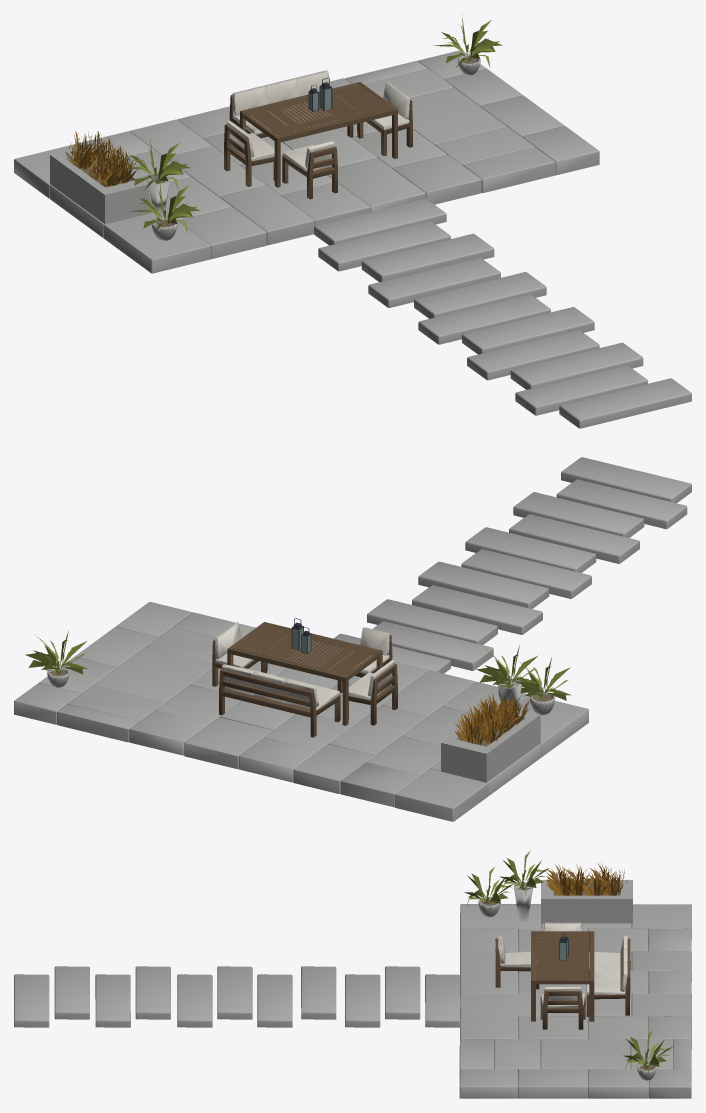
File: patio-mini.obj
The picture shows the model from 3 angles, top to bottom: view 1: azimuth 30°, elevation 25°; view 2: azimuth 150°, elevation 25°; view 3: azimuth 270°, elevation 25°; orthographic projection. The views are drawn at different scales.
Parts seen in each view (by area): view 1: Mesh740 Planter G_3_Deck_Decorative_fbx1 Model, Mesh804 mesh_916_1 PAthway_C G_3_Deck_Decorative_fbx1 Model, Mesh809 mesh_916_1 PAthway_C G_3_Deck_Decorative_fbx1 Model, Mesh781 mesh_916_1 PAthway_C G_3_Deck_Decorative_fbx1 Model, Mesh818 mesh_916_1 PAthway_C G_3_Deck_Decorative_fbx1 Model, Mesh813 mesh_916_1 PAthway_C G_3_Deck_Decorative_fbx1 Model, Mesh811 mesh_916_1 PAthway_C G_3_Deck_Decorative_fbx1 Model, Mesh815 mesh_916_1 PAthway_C G_3_Deck_Decorative_fbx1 Model, Mesh816 mesh_916_1 PAthway_C G_3_Deck_Decorative_fbx1 Model, Mesh817 mesh_916_1 PAthway_C G_3_Deck_Decorative_fbx1 Model, Mesh778 mesh_916_1 PAthway_C G_3_Deck_Decorative_fbx1 Model, Mesh810 mesh_916_1 PAthway_C G_3_Deck_Decorative_fbx1 Model (+29 smaller); view 2: Mesh740 Planter G_3_Deck_Decorative_fbx1 Model, Mesh781 mesh_916_1 PAthway_C G_3_Deck_Decorative_fbx1 Model, Mesh805 mesh_916_1 PAthway_C G_3_Deck_Decorative_fbx1 Model, Mesh818 mesh_916_1 PAthway_C G_3_Deck_Decorative_fbx1 Model, Mesh812 mesh_916_1 PAthway_C G_3_Deck_Decorative_fbx1 Model, Mesh816 mesh_916_1 PAthway_C G_3_Deck_Decorative_fbx1 Model, Mesh815 mesh_916_1 PAthway_C G_3_Deck_Decorative_fbx1 Model, Mesh817 mesh_916_1 PAthway_C G_3_Deck_Decorative_fbx1 Model, Mesh809 mesh_916_1 PAthway_C G_3_Deck_Decorative_fbx1 Model, Mesh810 mesh_916_1 PAthway_C G_3_Deck_Decorative_fbx1 Model, Mesh811 mesh_916_1 PAthway_C G_3_Deck_Decorative_fbx1 Model, Mesh813 mesh_916_1 PAthway_C G_3_Deck_Decorative_fbx1 Model (+35 smaller); view 3: Mesh740 Planter G_3_Deck_Decorative_fbx1 Model, Mesh781 mesh_916_1 PAthway_C G_3_Deck_Decorative_fbx1 Model, Mesh801 mesh_916_1 PAthway_C G_3_Deck_Decorative_fbx1 Model, Mesh818 mesh_916_1 PAthway_C G_3_Deck_Decorative_fbx1 Model, Mesh809 mesh_916_1 PAthway_C G_3_Deck_Decorative_fbx1 Model, Mesh810 mesh_916_1 PAthway_C G_3_Deck_Decorative_fbx1 Model, Mesh812 mesh_916_1 PAthway_C G_3_Deck_Decorative_fbx1 Model, Mesh815 mesh_916_1 PAthway_C G_3_Deck_Decorative_fbx1 Model, Mesh816 mesh_916_1 PAthway_C G_3_Deck_Decorative_fbx1 Model, Mesh778 mesh_916_1 PAthway_C G_3_Deck_Decorative_fbx1 Model, Mesh811 mesh_916_1 PAthway_C G_3_Deck_Decorative_fbx1 Model, Mesh813 mesh_916_1 PAthway_C G_3_Deck_Decorative_fbx1 Model (+31 smaller).
Boxes of the visible parts, x1,y1,x2,y2 form: Mesh740 Planter G_3_Deck_Decorative_fbx1 Model: (50,143,151,223); Mesh804 mesh_916_1 PAthway_C G_3_Deck_Decorative_fbx1 Model: (103,212,211,273); Mesh809 mesh_916_1 PAthway_C G_3_Deck_Decorative_fbx1 Model: (559,378,691,428); Mesh781 mesh_916_1 PAthway_C G_3_Deck_Decorative_fbx1 Model: (410,87,506,144); Mesh818 mesh_916_1 PAthway_C G_3_Deck_Decorative_fbx1 Model: (368,257,500,307); Mesh813 mesh_916_1 PAthway_C G_3_Deck_Decorative_fbx1 Model: (361,233,494,282); Mesh811 mesh_916_1 PAthway_C G_3_Deck_Decorative_fbx1 Model: (461,307,594,354); Mesh815 mesh_916_1 PAthway_C G_3_Deck_Decorative_fbx1 Model: (515,365,647,415); Mesh816 mesh_916_1 PAthway_C G_3_Deck_Decorative_fbx1 Model: (467,330,599,380); Mesh817 mesh_916_1 PAthway_C G_3_Deck_Decorative_fbx1 Model: (418,294,550,344); Mesh778 mesh_916_1 PAthway_C G_3_Deck_Decorative_fbx1 Model: (318,221,450,271); Mesh810 mesh_916_1 PAthway_C G_3_Deck_Decorative_fbx1 Model: (510,342,643,389); Mesh740 Planter G_3_Deck_Decorative_fbx1 Model: (441,704,540,782); Mesh781 mesh_916_1 PAthway_C G_3_Deck_Decorative_fbx1 Model: (93,647,212,703); Mesh805 mesh_916_1 PAthway_C G_3_Deck_Decorative_fbx1 Model: (395,769,488,821); Mesh818 mesh_916_1 PAthway_C G_3_Deck_Decorative_fbx1 Model: (412,585,542,634); Mesh812 mesh_916_1 PAthway_C G_3_Deck_Decorative_fbx1 Model: (418,561,549,608); Mesh816 mesh_916_1 PAthway_C G_3_Deck_Decorative_fbx1 Model: (509,514,639,563); Mesh815 mesh_916_1 PAthway_C G_3_Deck_Decorative_fbx1 Model: (556,479,687,529); Mesh817 mesh_916_1 PAthway_C G_3_Deck_Decorative_fbx1 Model: (461,549,591,598); Mesh809 mesh_916_1 PAthway_C G_3_Deck_Decorative_fbx1 Model: (561,457,691,503); Mesh810 mesh_916_1 PAthway_C G_3_Deck_Decorative_fbx1 Model: (513,492,644,537); Mesh811 mesh_916_1 PAthway_C G_3_Deck_Decorative_fbx1 Model: (465,527,596,572); Mesh813 mesh_916_1 PAthway_C G_3_Deck_Decorative_fbx1 Model: (367,599,497,644); Mesh740 Planter G_3_Deck_Decorative_fbx1 Model: (541,880,632,923); Mesh781 mesh_916_1 PAthway_C G_3_Deck_Decorative_fbx1 Model: (540,1039,630,1069); Mesh801 mesh_916_1 PAthway_C G_3_Deck_Decorative_fbx1 Model: (518,1069,587,1098); Mesh818 mesh_916_1 PAthway_C G_3_Deck_Decorative_fbx1 Model: (301,966,336,1019); Mesh809 mesh_916_1 PAthway_C G_3_Deck_Decorative_fbx1 Model: (14,974,49,1027); Mesh810 mesh_916_1 PAthway_C G_3_Deck_Decorative_fbx1 Model: (95,974,130,1027); Mesh812 mesh_916_1 PAthway_C G_3_Deck_Decorative_fbx1 Model: (257,974,292,1027); Mesh815 mesh_916_1 PAthway_C G_3_Deck_Decorative_fbx1 Model: (54,966,89,1019); Mesh816 mesh_916_1 PAthway_C G_3_Deck_Decorative_fbx1 Model: (135,966,170,1019); Mesh778 mesh_916_1 PAthway_C G_3_Deck_Decorative_fbx1 Model: (385,966,420,1019); Mesh811 mesh_916_1 PAthway_C G_3_Deck_Decorative_fbx1 Model: (177,974,212,1027); Mesh813 mesh_916_1 PAthway_C G_3_Deck_Decorative_fbx1 Model: (345,974,380,1027).
Size of the model in its own units: 338 by 65.66 by 518.
